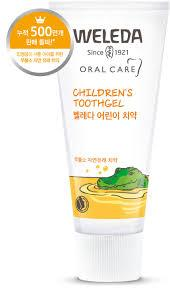toothpaste: (46, 1, 161, 286)
